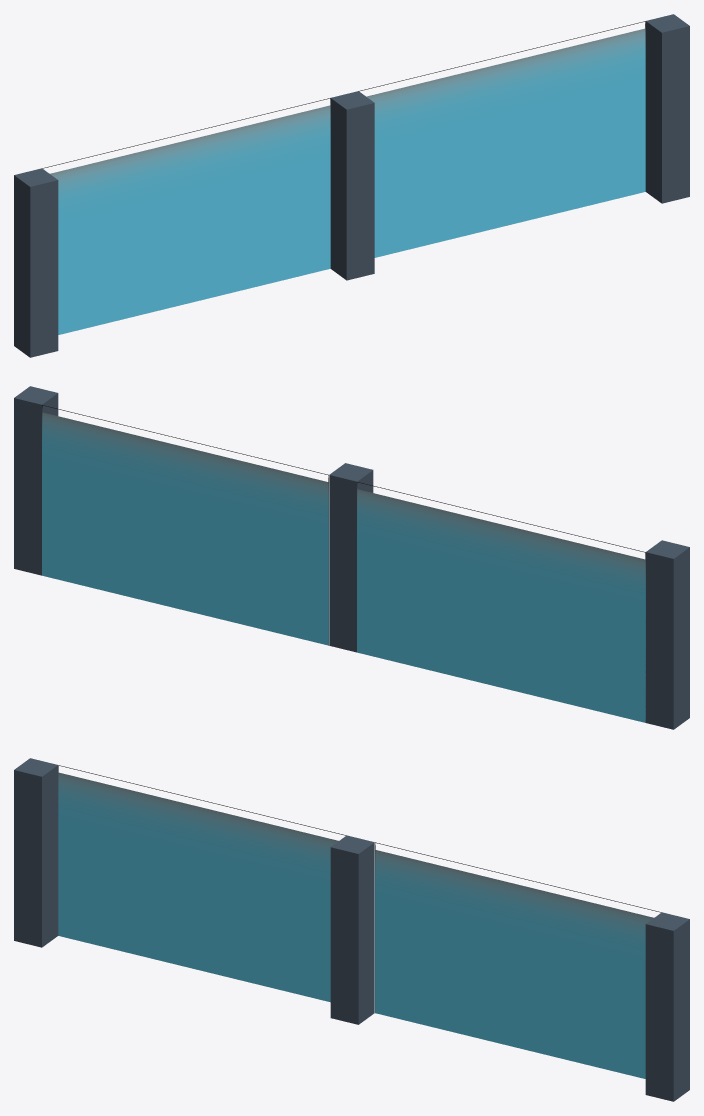
The model's file is gate-piece.fbx.
3 views of the same model, one above another, from view 1: azimuth 30°, elevation 25°; view 2: azimuth 150°, elevation 25°; view 3: azimuth 330°, elevation 25° (orthographic).
Parts seen in each view (by area): view 1: gate.003, gate.002, gate, gate.004, gate.005; view 2: gate.003, gate.002, gate.004, gate, gate.005; view 3: gate.003, gate.002, gate, gate.004, gate.005.
Part boxes in pixels (x1=…): gate.003: x1=42, y1=98, x2=330, y2=334; gate.002: x1=359, y1=21, x2=645, y2=257; gate: x1=330, y1=91, x2=374, y2=280; gate.004: x1=14, y1=168, x2=58, y2=357; gate.005: x1=645, y1=14, x2=689, y2=203; gate.003: x1=357, y1=482, x2=645, y2=722; gate.002: x1=42, y1=405, x2=328, y2=645; gate.004: x1=645, y1=540, x2=689, y2=729; gate: x1=329, y1=463, x2=373, y2=652; gate.005: x1=14, y1=386, x2=58, y2=575; gate.003: x1=58, y1=765, x2=346, y2=1002; gate.002: x1=375, y1=842, x2=661, y2=1078; gate: x1=330, y1=835, x2=374, y2=1024; gate.004: x1=14, y1=758, x2=58, y2=947; gate.005: x1=645, y1=912, x2=689, y2=1101.
Size of the model in its own units: 1.81 by 0.4486 by 0.0771.
2 materials, 1 textured.
